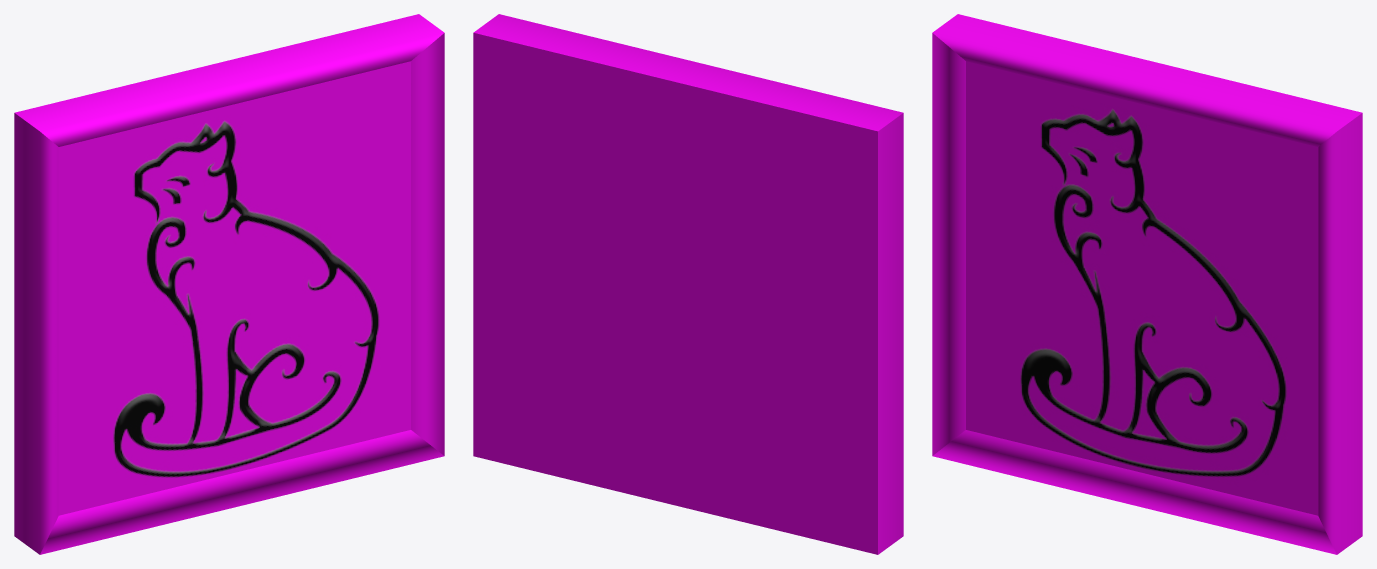
File: Pink Cat.fbx
3 views of the same model, side by side, from view 1: azimuth 30°, elevation 25°; view 2: azimuth 150°, elevation 25°; view 3: azimuth 330°, elevation 25° (orthographic).
Visible parts, largest first — view 1: pCube1; view 2: pCube1; view 3: pCube1.
Boxes of the visible parts, bbox=[...] form: pCube1: bbox=[14, 14, 444, 554]; pCube1: bbox=[473, 14, 903, 554]; pCube1: bbox=[932, 14, 1362, 554].
Bounding box in the file's own units: 3 × 3 × 0.3283.
Materials: 1 (1 with a texture image).
